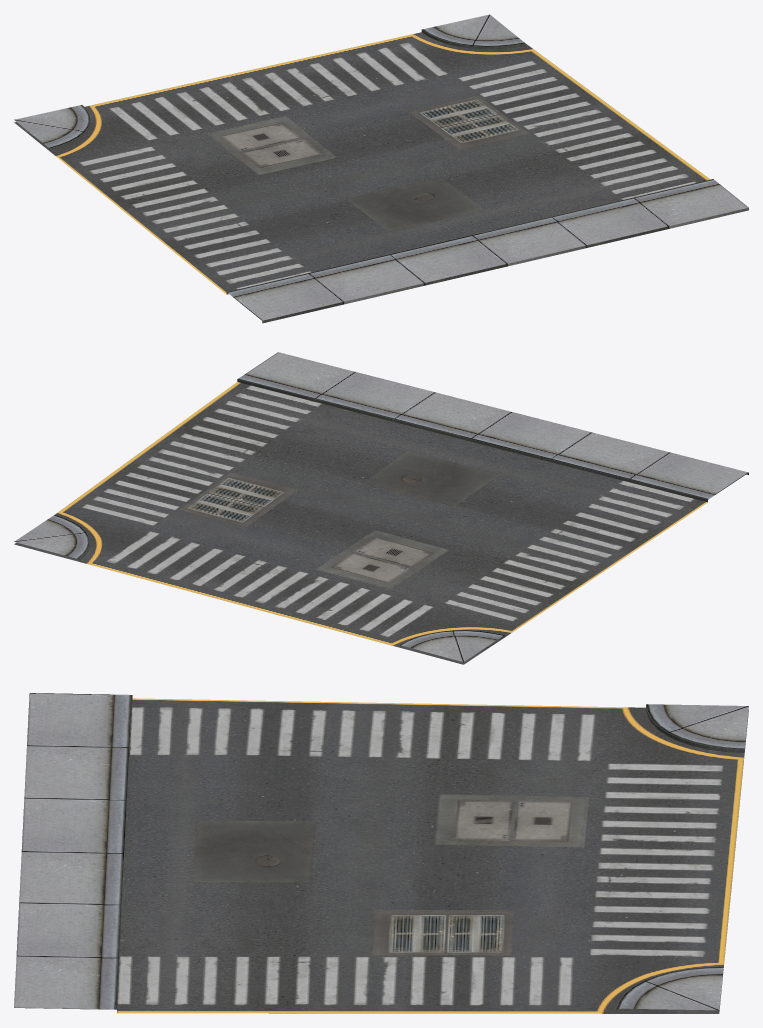
File: road23.glb
The picture shows the model from 3 angles, top to bottom: view 1: azimuth 30°, elevation 25°; view 2: azimuth 150°, elevation 25°; view 3: azimuth 270°, elevation 25°; orthographic projection. The views are drawn at different scales.
Parts seen in each view (by area): view 1: Road_T_Intersection_City_Intersection_mat_0.002; view 2: Road_T_Intersection_City_Intersection_mat_0.002; view 3: Road_T_Intersection_City_Intersection_mat_0.002.
Boxes of the visible parts, bbox=[...] form: Road_T_Intersection_City_Intersection_mat_0.002: bbox=[14, 14, 748, 323]; Road_T_Intersection_City_Intersection_mat_0.002: bbox=[14, 352, 748, 664]; Road_T_Intersection_City_Intersection_mat_0.002: bbox=[14, 693, 748, 1013].
Bounding box in the file's own units: 32.61 × 0.1686 × 31.92.
2 materials, 2 textured.
